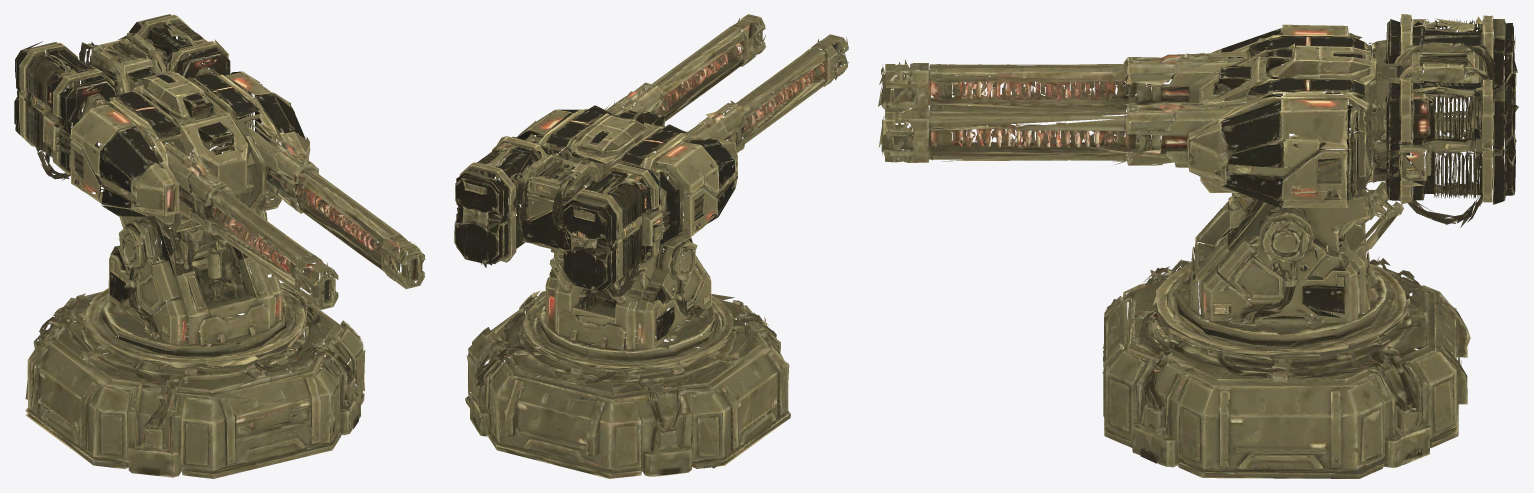
Rendered from tower_rail_p1_t5.glb.
3 views of the same model, side by side, from view 1: azimuth 30°, elevation 25°; view 2: azimuth 150°, elevation 25°; view 3: azimuth 270°, elevation 25° (orthographic). The views are drawn at different scales.
Parts seen in each view (by area): view 1: head, base; view 2: head, base; view 3: head, base.
Part boxes in pixels (x1=…): head: x1=14, y1=14, x2=425, y2=310; base: x1=25, y1=241, x2=365, y2=478; head: x1=454, y1=14, x2=848, y2=302; base: x1=465, y1=254, x2=790, y2=478; head: x1=878, y1=14, x2=1518, y2=269; base: x1=1102, y1=207, x2=1470, y2=478.
Bounding box in the file's own units: 0.7929 × 0.8558 × 1.4.
1 material, 1 textured.
